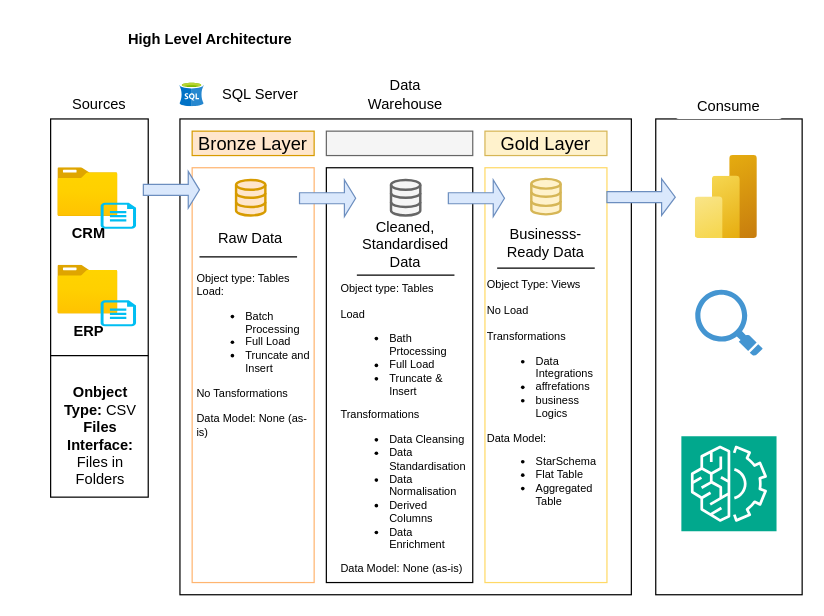
Some shapes in this 824 by 616 pixel diagram are drawn without their labels. The shapes that lost their labels are listed below. From the top down, each one's box as (x1, y1, x2, y2) in pixels, then its label:
(325, 130, 473, 156): Silver Layer
(695, 155, 757, 238): BI & Reporting
(695, 289, 762, 356): Ad-hoc SQL Queries
(680, 435, 777, 531): Machine Learning
